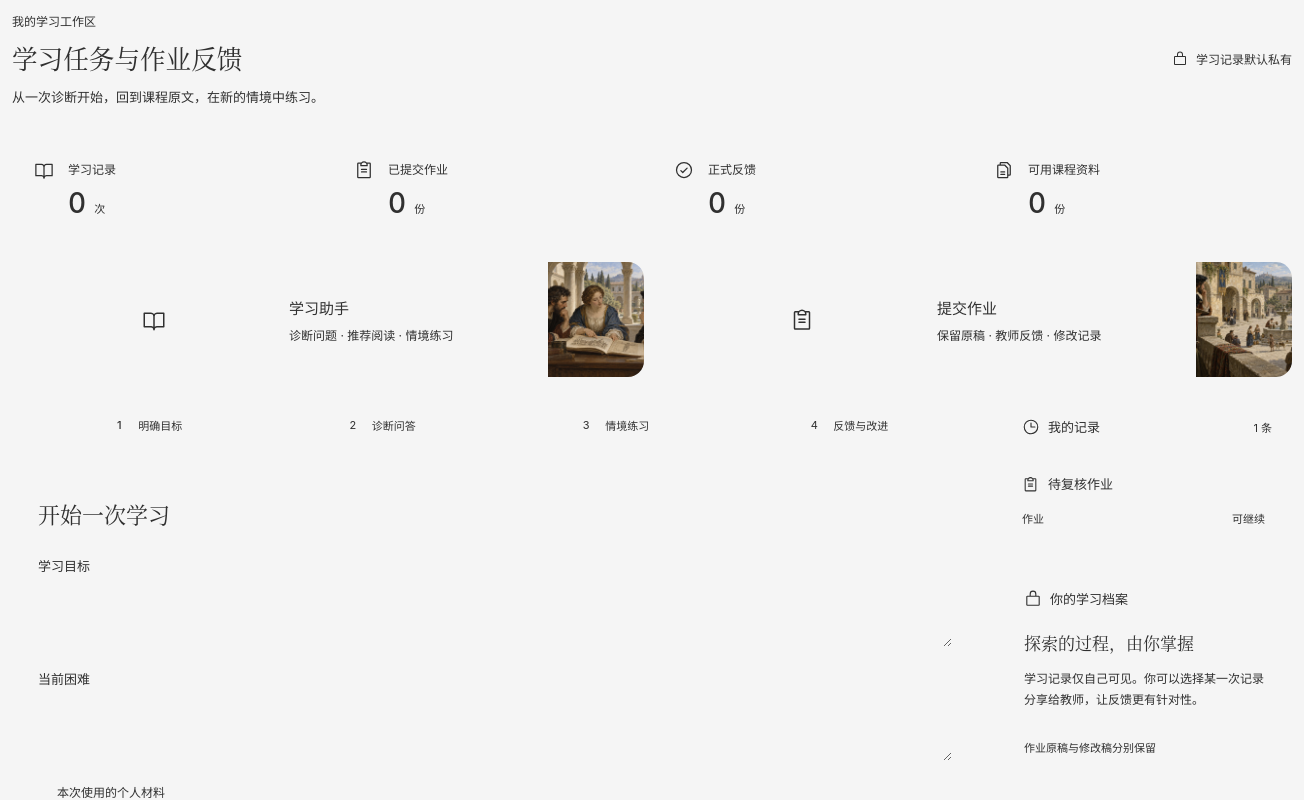
Scenario: hides unpublished feedback and exposes sharing only as an explicit record action
The width and height of the screenshot is (1304, 800).
What coordinates should you click on to do the following:
click the button "待复核作业 作业 可继续"
I would click on:
 (1081, 484)
Its box is [1002,456,1292,547].
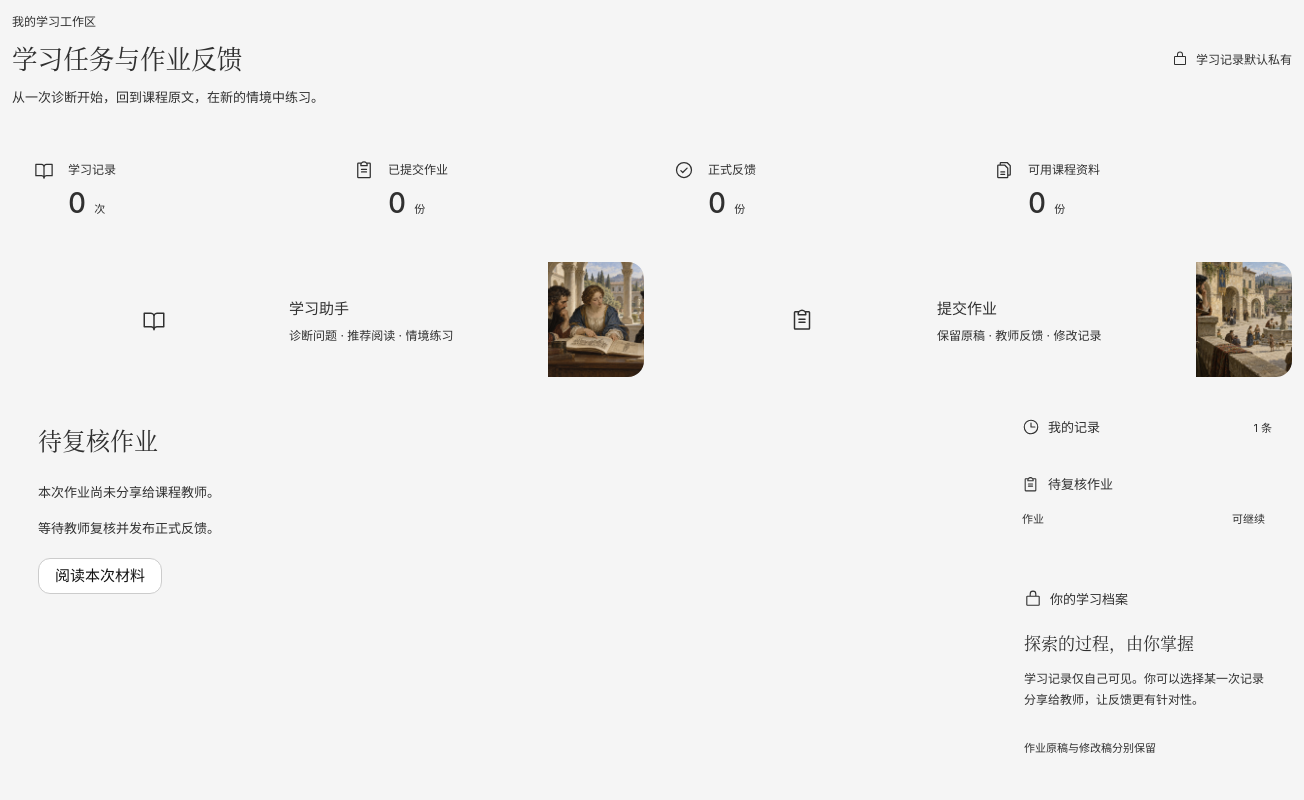
Expected: the text "等待教师复核并发布正式反馈。" is shown, [38,520,220,536]
